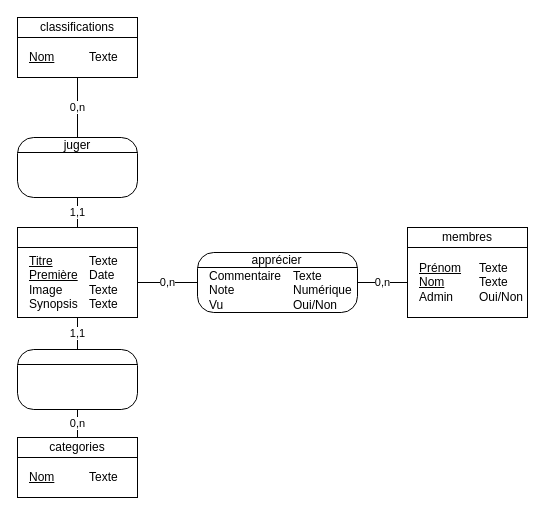
The diagram is 545 pixels wide and 515 high, and some of its shapes have lost their labels. Here are the shapes that lost their labels. From the top down, the centre of each, then its label:
the point at 77,237: films
the point at 77,379: contenir
